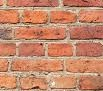brick: (11, 58, 64, 73), (15, 26, 65, 40), (66, 57, 103, 71), (68, 25, 103, 39), (74, 41, 103, 56), (18, 41, 45, 56), (21, 74, 49, 88), (47, 41, 73, 56), (21, 10, 47, 24), (50, 9, 76, 23), (80, 8, 103, 23), (80, 76, 103, 89), (1, 9, 19, 25), (51, 77, 77, 88), (1, 74, 19, 89), (7, 1, 60, 6), (64, 1, 103, 7), (1, 42, 17, 56)
